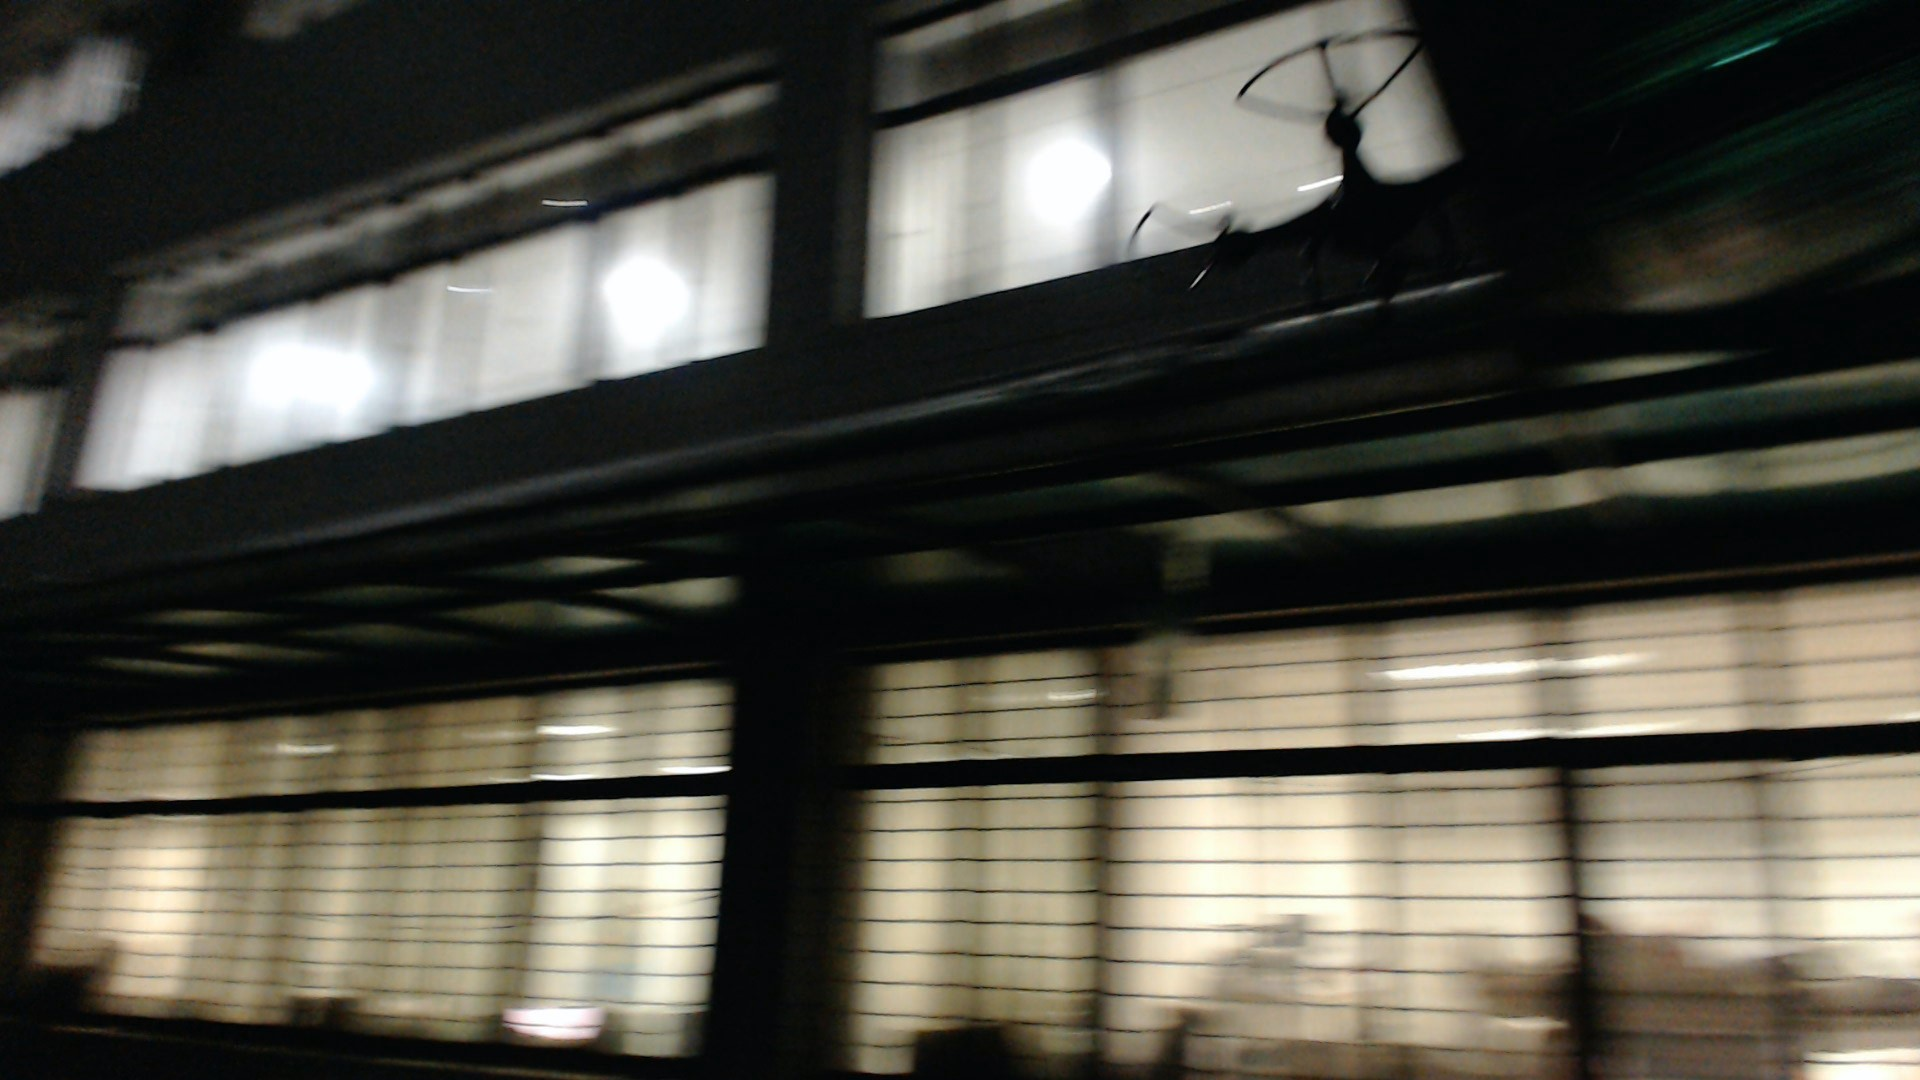drone: (1118, 24, 1640, 327)
